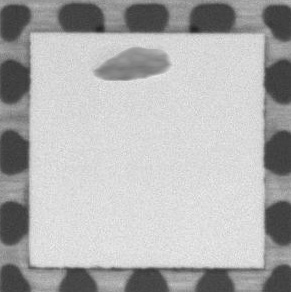DIE_INK: (81, 41, 182, 85)
